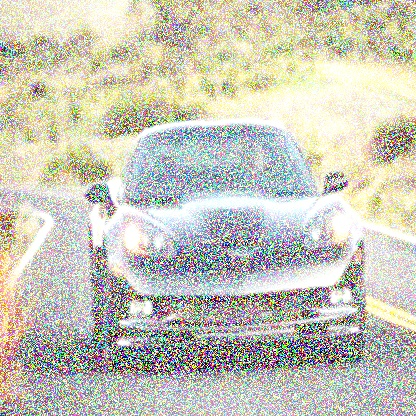Vehicle: (77, 112, 372, 370)
